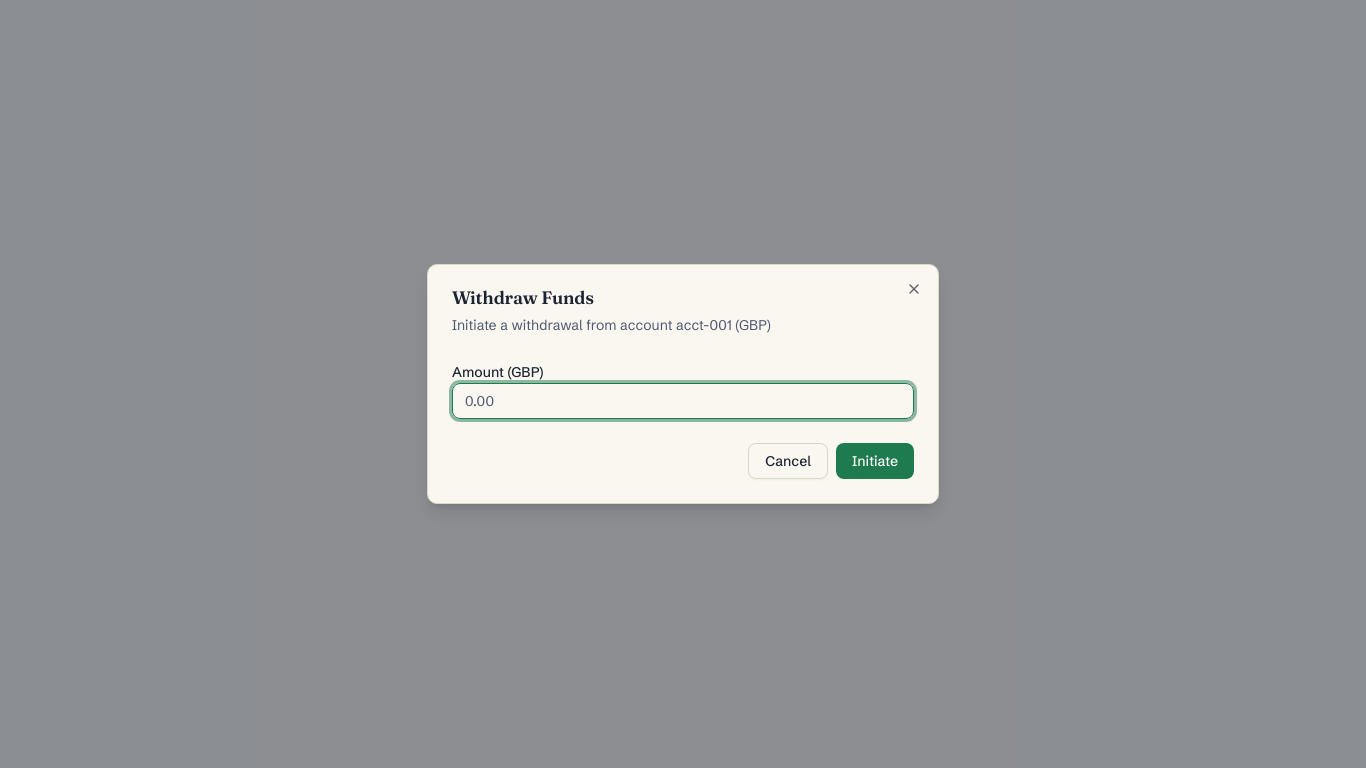
Test case: WithdrawDialog - step 1 validation › shows error when amount is negative
In the field labelled "Amount (GBP)": (683, 401) [452,383,914,419], type "-5"
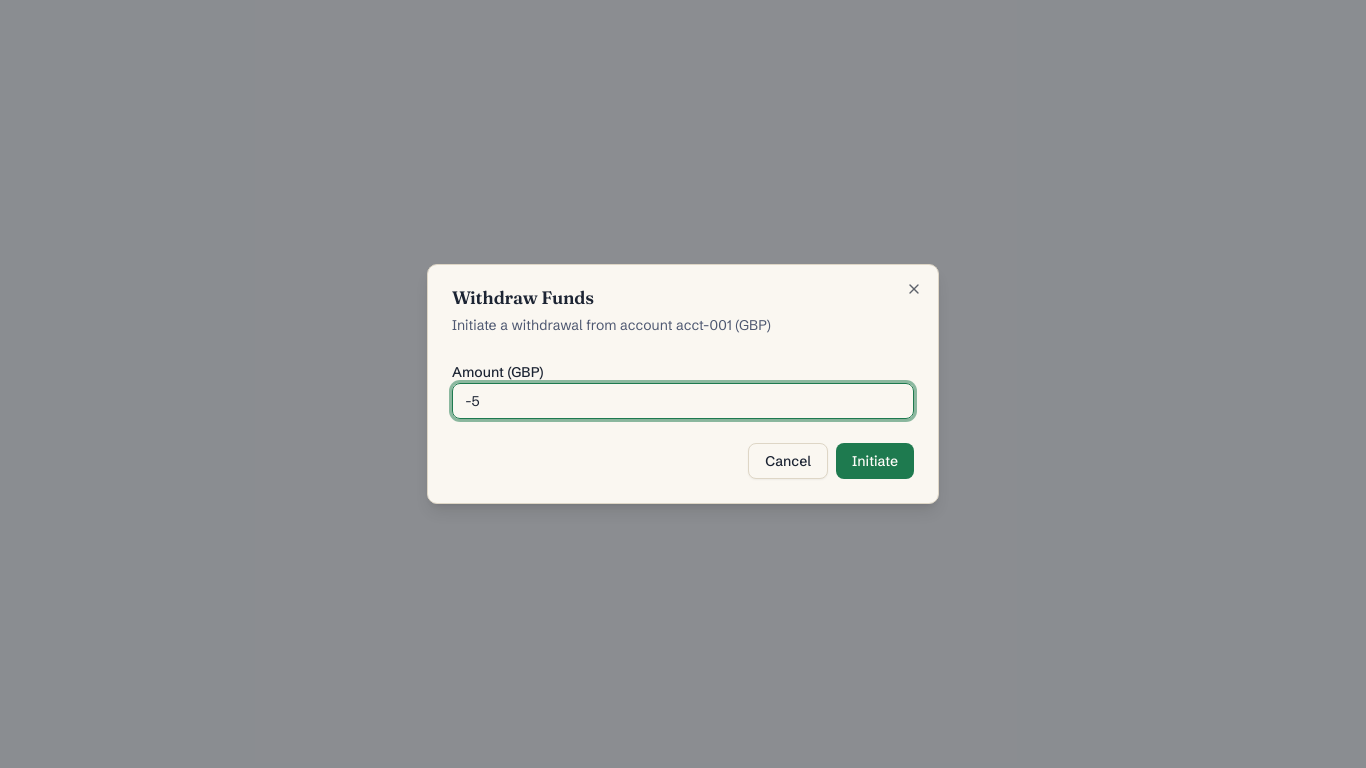
Click the button "Initiate": (875, 461) [836,443,914,479]
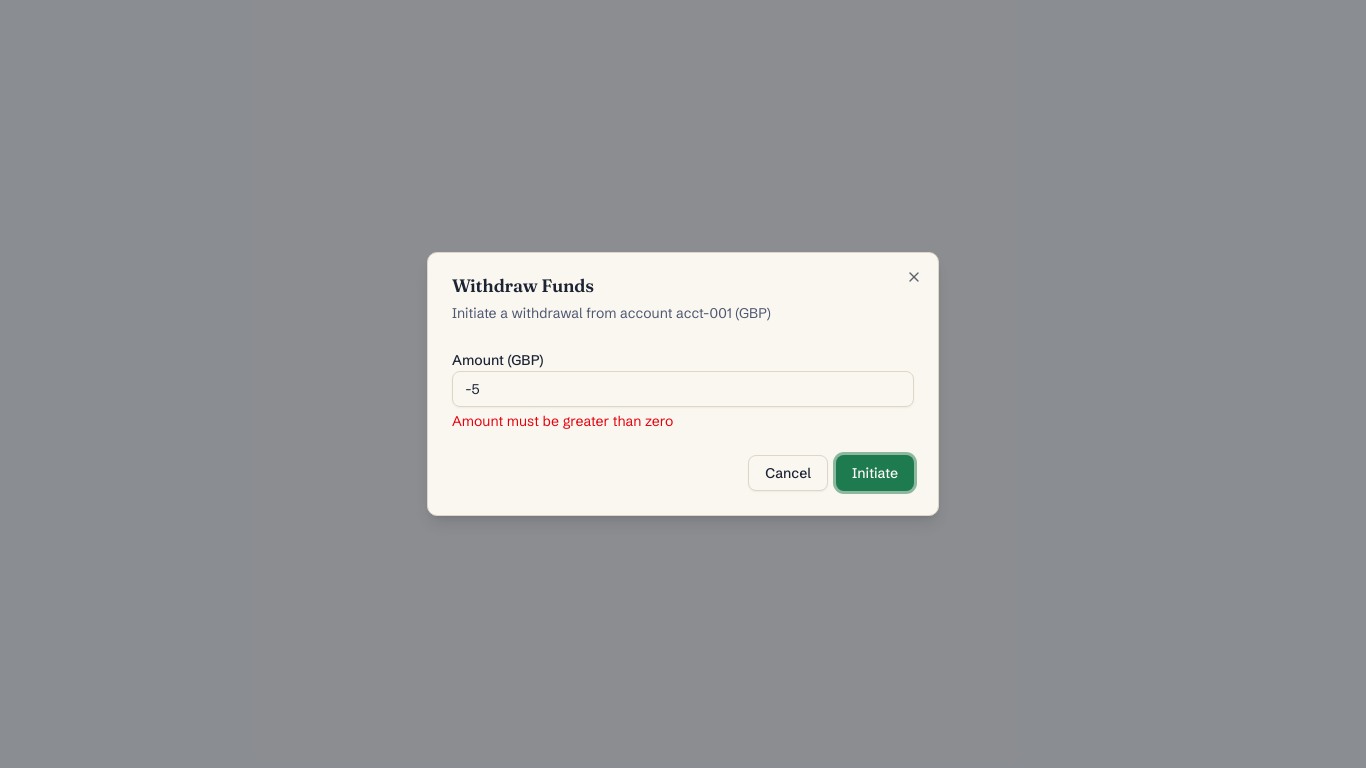
Expected: the text "Amount must be greater than zero" is shown, [452,412,673,430]
